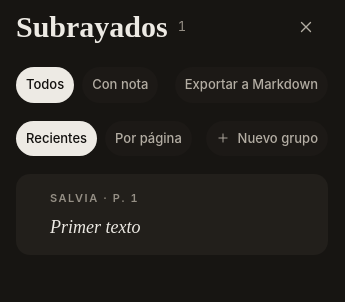
Scenario: HighlightsPanel › says no highlight has a note when the filter leaves nothing
What coordinates should you click on to do the following:
click the button "Con nota"
I would click on:
 (120, 85)
Its box is [82,67,158,102].
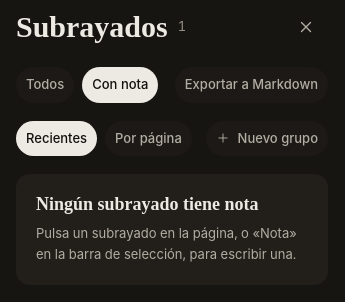
Result: the heading "Ningún subrayado tiene nota" is shown at [36,194,259,214]
Result: the text "para escribir una" is shown at [36,225,297,262]
